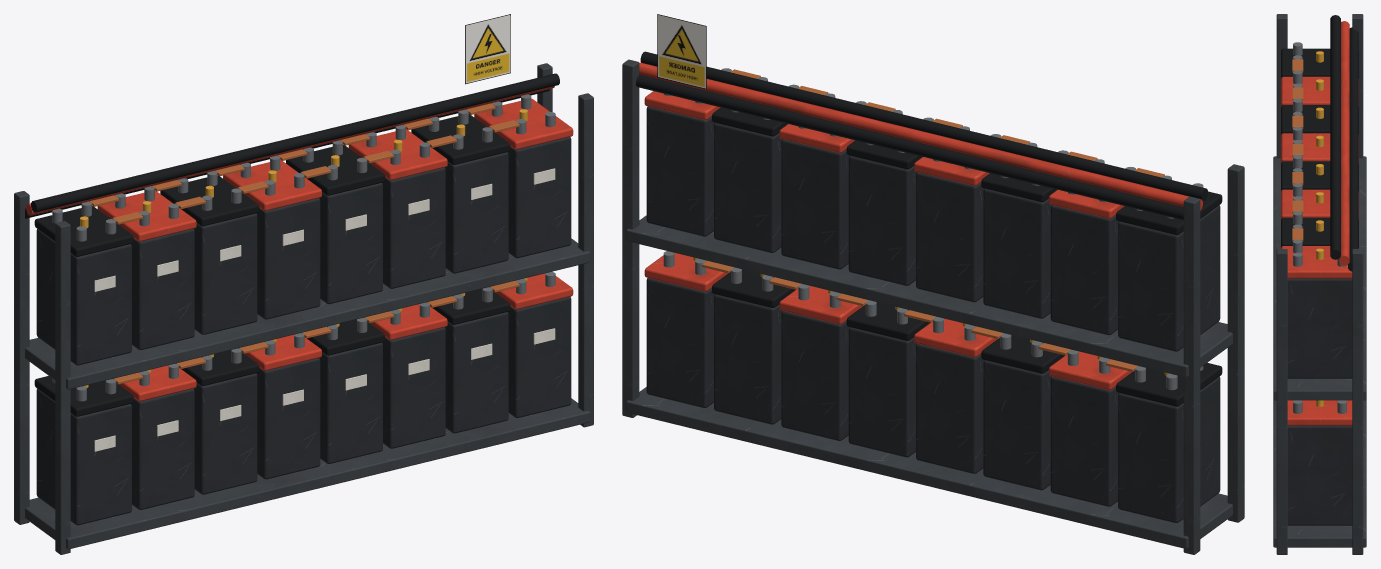
Rendered from BatteryBank.glb.
3 views of the same model, side by side, from view 1: azimuth 30°, elevation 25°; view 2: azimuth 150°, elevation 25°; view 3: azimuth 270°, elevation 25° (orthographic). The views are drawn at different scales.
Parts seen in each view (by area): view 1: BatteryBank_Body; view 2: BatteryBank_Body; view 3: BatteryBank_Body.
Boxes of the visible parts, x1,y1,x2,y2 form: BatteryBank_Body: (14,14,593,554); BatteryBank_Body: (622,14,1244,554); BatteryBank_Body: (1273,14,1366,554).
Size of the model in its own units: 2.55 by 1.75 by 0.42.
9 materials, 6 textured.
